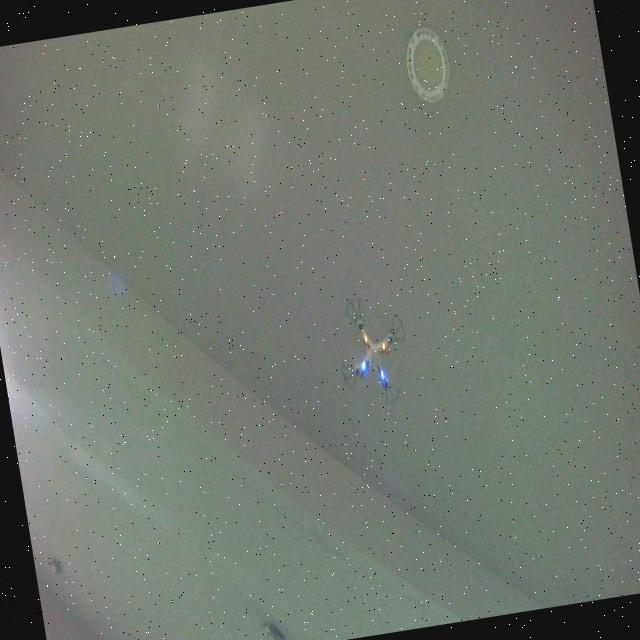drone: (328, 286, 418, 416)
